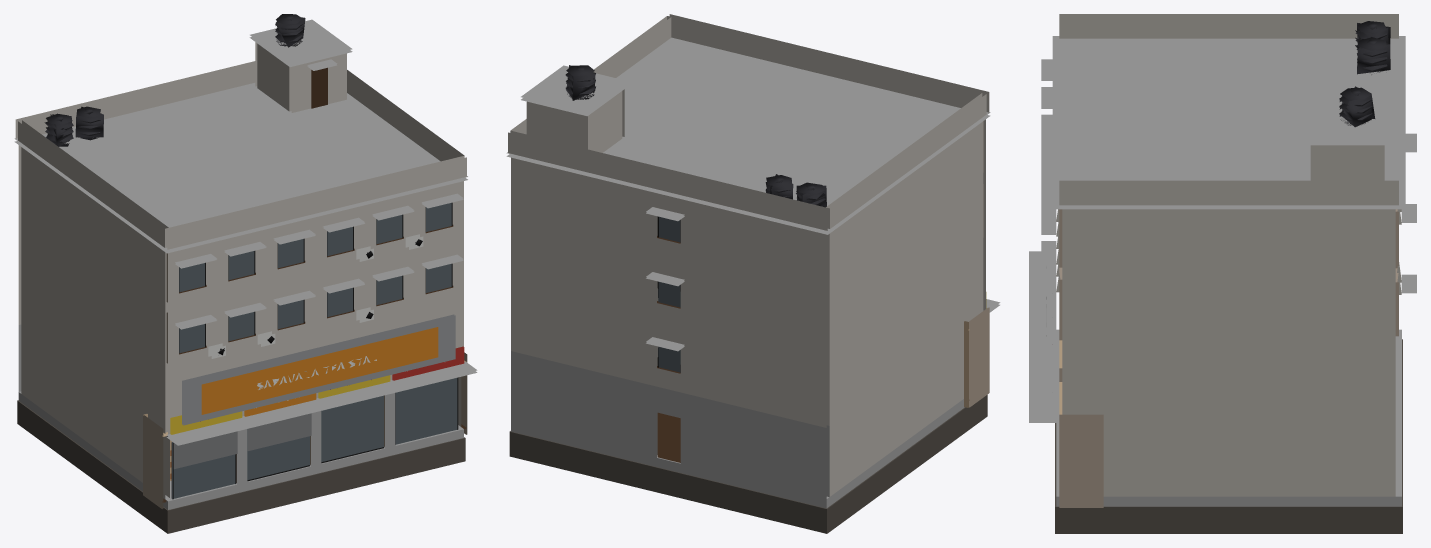
File: commercial_16x14_4_far.glb
3 views of the same model, side by side, from view 1: azimuth 30°, elevation 25°; view 2: azimuth 150°, elevation 25°; view 3: azimuth 270°, elevation 25° (orthographic). The views are drawn at different scales.
Visible parts, largest first — view 1: commercial_16x14_4; view 2: commercial_16x14_4; view 3: commercial_16x14_4.
Boxes of the visible parts, x1,y1,x2,y2 form: commercial_16x14_4: [14, 14, 477, 533]; commercial_16x14_4: [506, 14, 1000, 533]; commercial_16x14_4: [1029, 14, 1416, 533].
Bounding box in the file's own units: 16.5 × 18.6 × 15.71.
